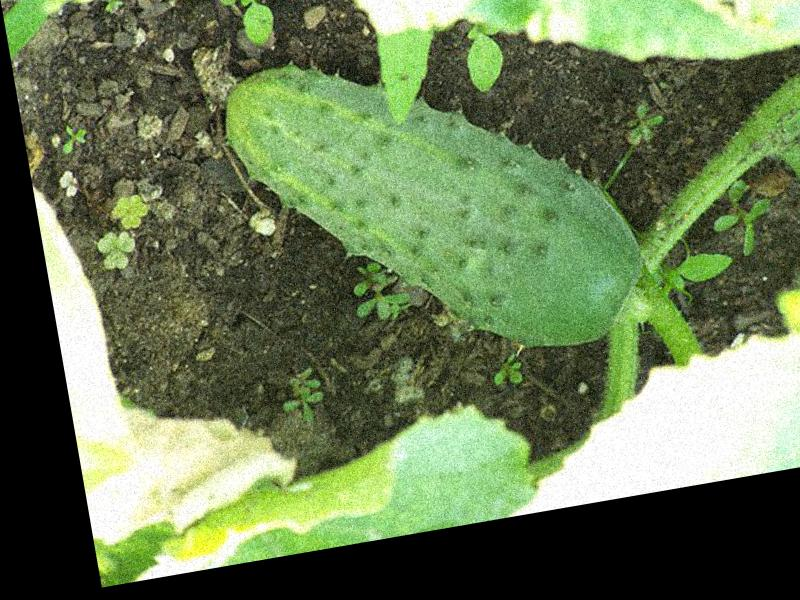Cucumber: (217, 12, 657, 398)
